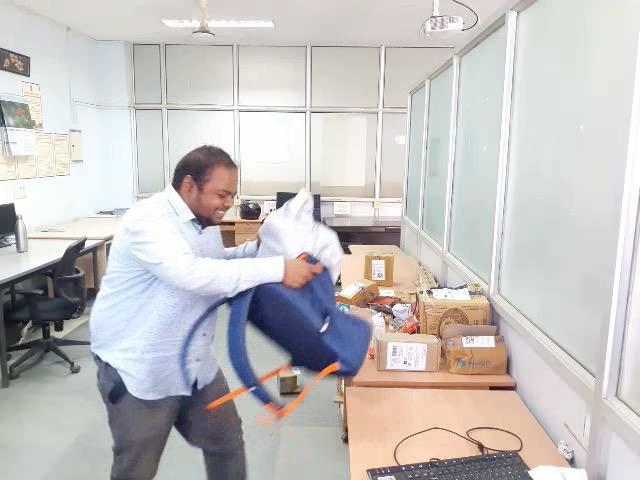shoplifting: (104, 134, 421, 433)
